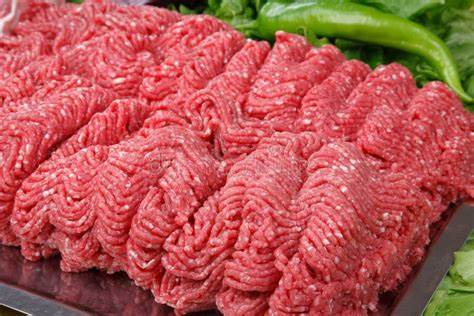Beef: (0, 28, 469, 313)
Chili: (246, 2, 470, 82)
